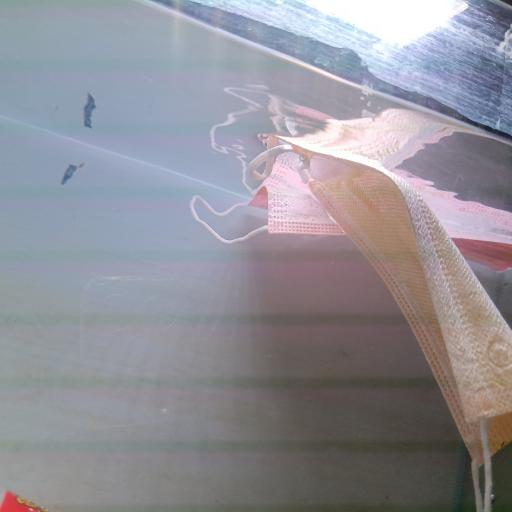mask: (242, 105, 512, 507), (188, 167, 512, 270)
